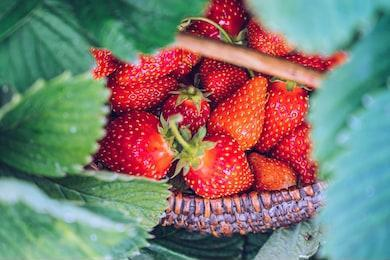Fresa: (96, 108, 180, 184), (178, 129, 260, 203), (202, 73, 271, 153), (251, 77, 310, 156), (160, 85, 215, 136), (244, 148, 302, 196)
